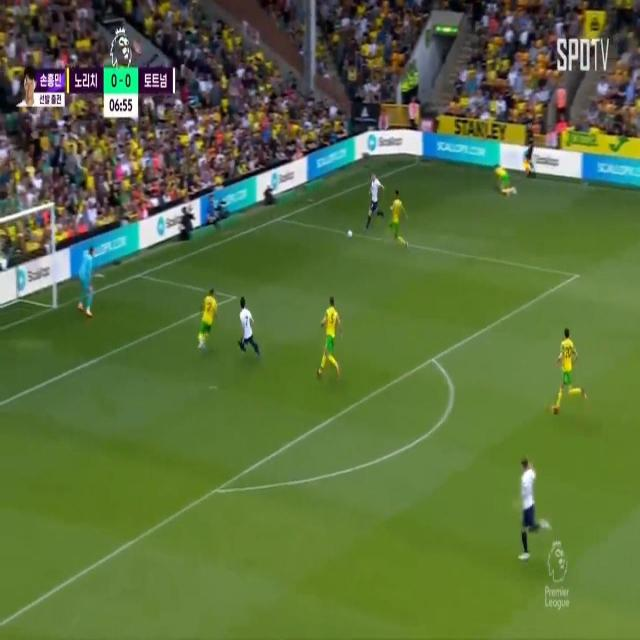ball: (344, 227, 354, 241)
player: (554, 322, 580, 412), (518, 452, 538, 556), (322, 294, 339, 382), (196, 286, 217, 348), (390, 187, 404, 253), (488, 161, 512, 199), (365, 171, 382, 224), (238, 296, 252, 356)
referee: (521, 123, 537, 175)
